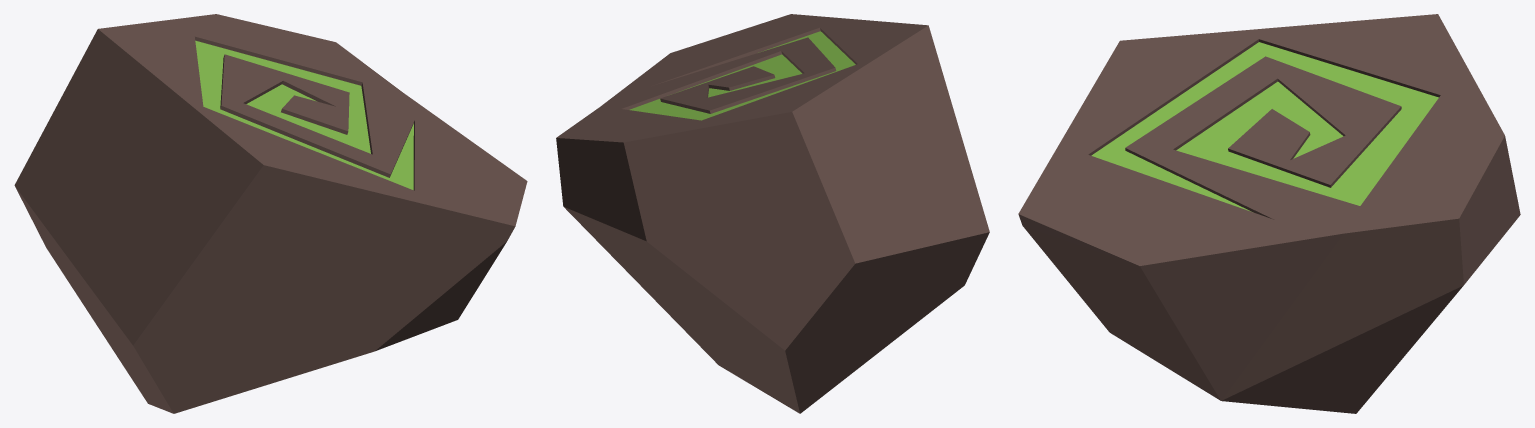
The model's file is SpiralStone_01.glb.
3 views of the same model, side by side, from view 1: azimuth 30°, elevation 25°; view 2: azimuth 150°, elevation 25°; view 3: azimuth 270°, elevation 25° (orthographic). The views are drawn at different scales.
Visible parts, largest first — view 1: SpiralStone_01; view 2: SpiralStone_01; view 3: SpiralStone_01.
Boxes of the visible parts, x1,y1,x2,y2 form: SpiralStone_01: [14, 14, 527, 413]; SpiralStone_01: [556, 14, 989, 413]; SpiralStone_01: [1018, 14, 1520, 413].
Size of what is drawn, in the model's own units: 1.14 by 1.04 by 1.32.
1 material, 1 textured.
